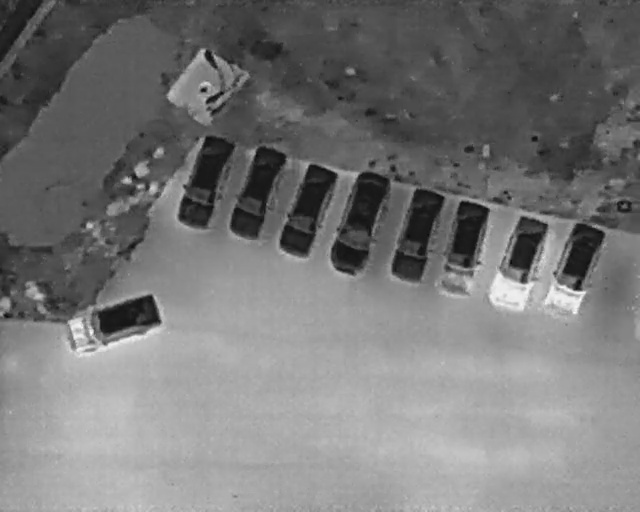Car: (168, 125, 244, 238), (323, 165, 397, 281), (58, 285, 170, 360), (273, 154, 347, 264), (483, 207, 557, 317), (538, 215, 613, 321), (220, 138, 291, 247), (380, 182, 450, 290), (431, 194, 496, 302)
